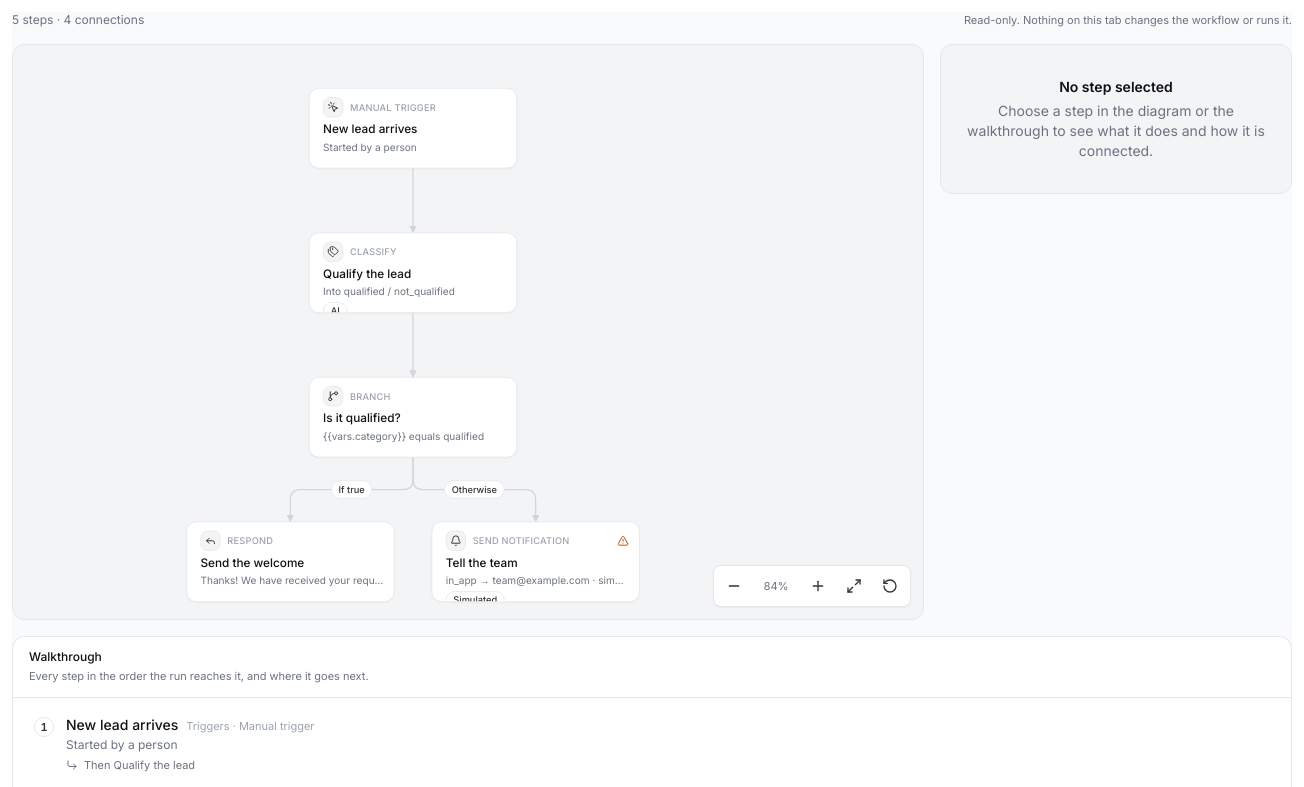
WorkflowPreview navigation › clears the selection when the view is reset
Step 1. Click the button with test id "preview-node-yes" → point(290, 562), box [186,521,394,602]
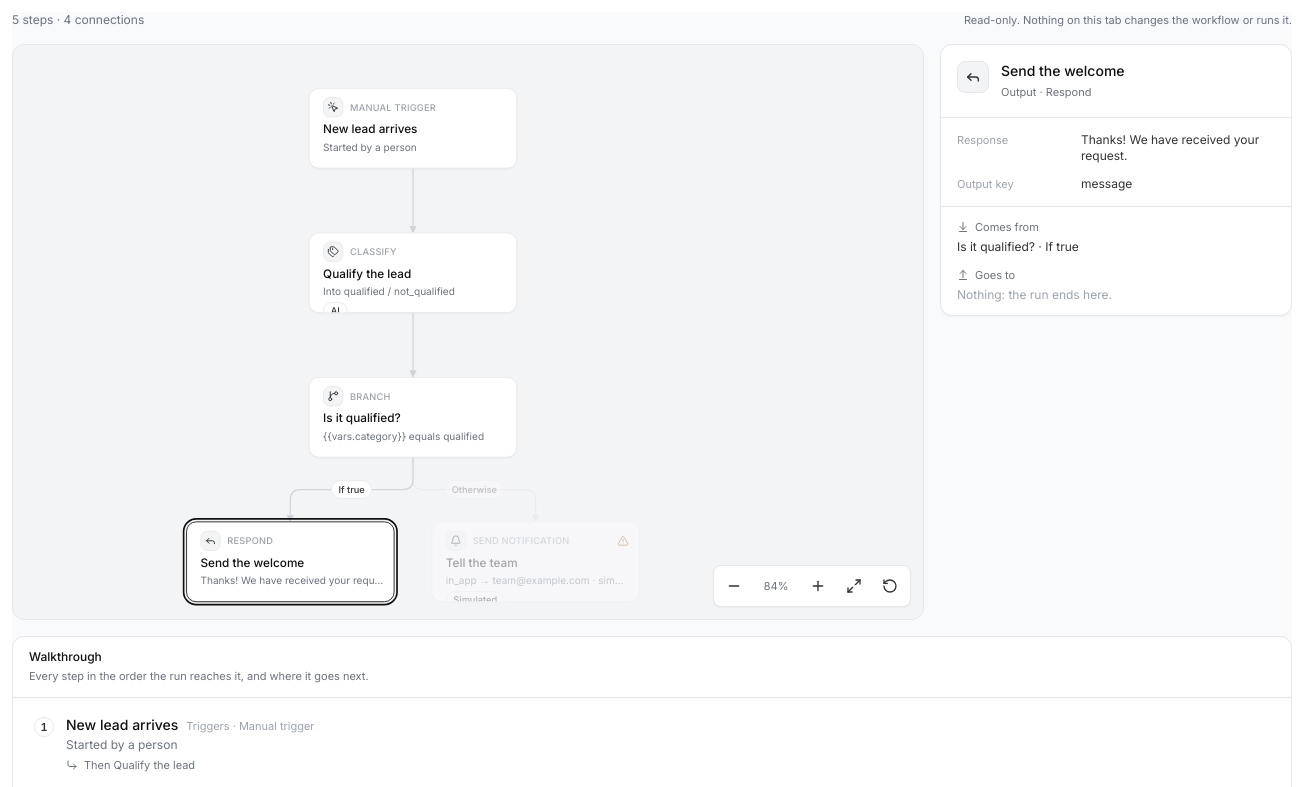
Step 2. Click the button named "Reset view" → point(890, 586), box [874,570,906,602]
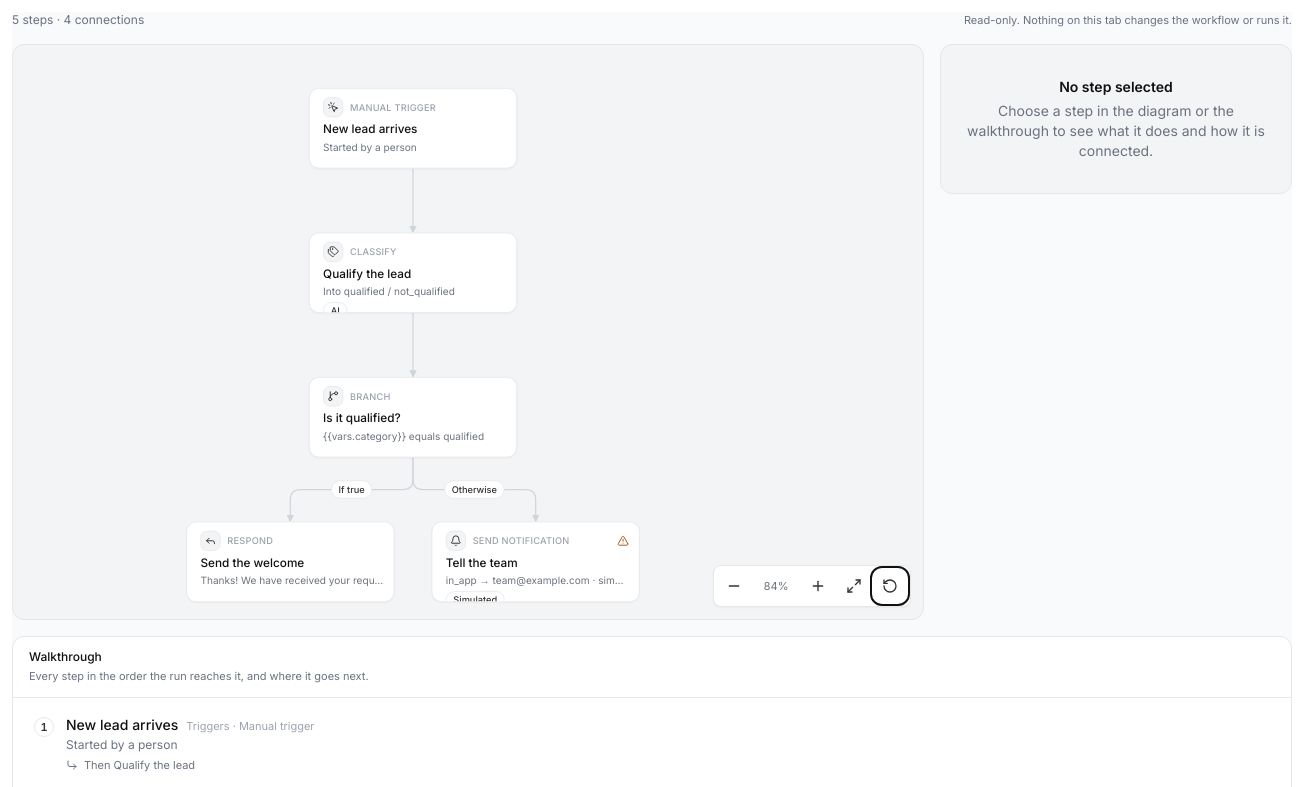
Now the text "No step selected" is shown, box [1059,78,1173,95]
